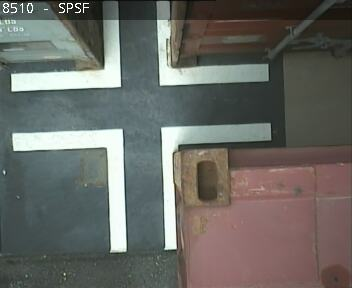groundmarker_1: (12, 121, 269, 249), (10, 1, 268, 92)
